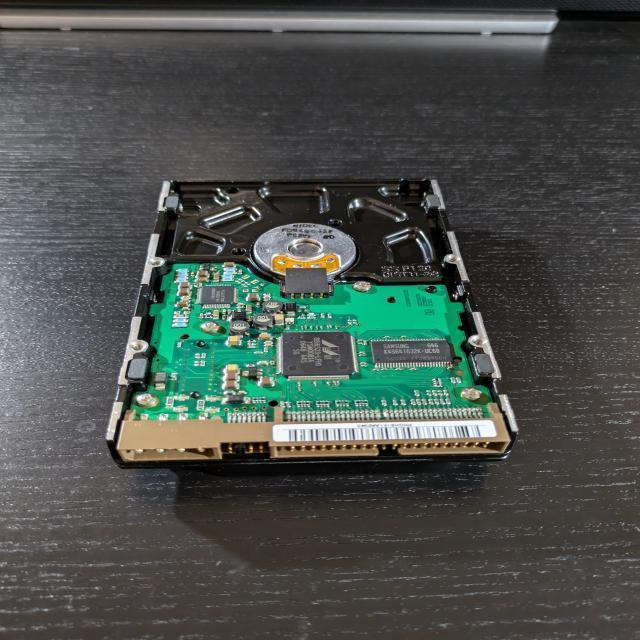DISK: (104, 177, 523, 470)
